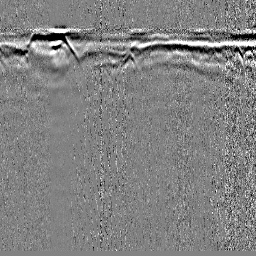cavity: (120, 52, 139, 71)
